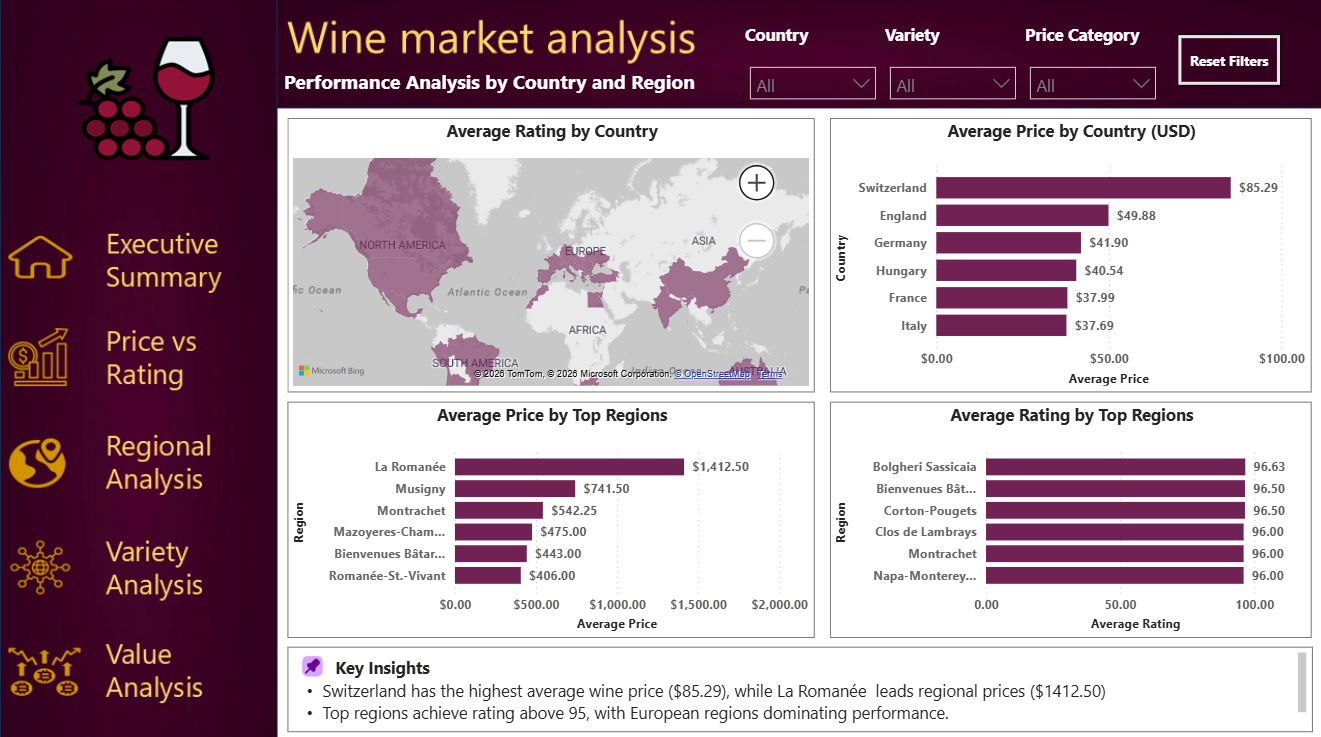

The dashboard page shown, as its layout file describes it:
{"tool":"powerbi","page":{"name":"Regional Analysis","canvas":[1280,720],"ordinal":2},"visuals":[{"type":"actionButton","title":"Reset Filters","box":[1136.7,34.8,100.2,50.1],"z":0},{"type":"slicer","title":"Country","fields":{"Values":["wine_data wine_insight.country"]},"box":[719,24.1,135.1,77.2],"z":1000},{"type":"slicer","title":"Variety","fields":{"Values":["wine_data wine_insight.variety"]},"box":[854.2,24.1,135.1,77.2],"z":2000},{"type":"slicer","title":"Price Category","fields":{"Values":["wine_data wine_insight.price_category"]},"box":[989.3,24.1,135.1,77.2],"z":3000},{"type":"filledMap","title":"Average Rating by Country ","fields":{"Category":["wine_data wine_insight.country"]},"box":[277.2,115.3,509.1,264.8],"z":4000},{"type":"clusteredBarChart","title":"Average  Price by Country (USD)","fields":{"Category":["wine_data wine_insight.country"],"Y":["Avg(wine_data wine_insight.price)"]},"box":[801.4,115.3,465.2,264.8],"z":5000},{"type":"clusteredBarChart","title":"Average Rating by Top Regions","fields":{"Category":["wine_data wine_insight.region_1"],"Y":["Avg(wine_data wine_insight.points)"]},"box":[801.4,389.7,465.2,227.8],"z":6000},{"type":"clusteredBarChart","title":"Average  Price by Top Regions","fields":{"Y":["Avg(wine_data wine_insight.price)"],"Category":["wine_data wine_insight.region_1"]},"box":[277.2,389.7,509.1,227.8],"z":7000},{"type":"textbox","box":[269,62.7,411.4,38.6],"z":8000},{"type":"textbox","box":[277.5,626.1,989.3,82],"z":9000},{"type":"image","box":[290.8,626.1,21.7,37.4],"z":10000},{"type":"actionButton","box":[0,308.9,268.5,80.7],"z":10001},{"type":"actionButton","box":[0,403.5,268.5,80.7],"z":10002},{"type":"actionButton","box":[0,512,268.5,80.7],"z":10003},{"type":"actionButton","box":[0,610.8,268.5,80.7],"z":10004},{"type":"actionButton","box":[0,214.3,268.5,80.7],"z":10005}]}

Visuals, with their boxes on the page's 1280x720 design canvas (x1, y1, x2, y2). These are canvas units, not pixel positions in the 1321x737 screenshot, which may show the page scaled, cropped or inside an application window:
"Reset Filters" actionButton: {"left": 1137, "top": 35, "right": 1237, "bottom": 85}
"Country" slicer: {"left": 719, "top": 24, "right": 854, "bottom": 101}
"Variety" slicer: {"left": 854, "top": 24, "right": 989, "bottom": 101}
"Price Category" slicer: {"left": 989, "top": 24, "right": 1124, "bottom": 101}
"Average Rating by Country " filledMap: {"left": 277, "top": 115, "right": 786, "bottom": 380}
"Average  Price by Country (USD)" clusteredBarChart: {"left": 801, "top": 115, "right": 1267, "bottom": 380}
"Average Rating by Top Regions" clusteredBarChart: {"left": 801, "top": 390, "right": 1267, "bottom": 618}
"Average  Price by Top Regions" clusteredBarChart: {"left": 277, "top": 390, "right": 786, "bottom": 618}
textbox: {"left": 269, "top": 63, "right": 680, "bottom": 101}
textbox: {"left": 278, "top": 626, "right": 1267, "bottom": 708}
image: {"left": 291, "top": 626, "right": 312, "bottom": 664}
actionButton: {"left": 0, "top": 309, "right": 268, "bottom": 390}
actionButton: {"left": 0, "top": 404, "right": 268, "bottom": 484}
actionButton: {"left": 0, "top": 512, "right": 268, "bottom": 593}
actionButton: {"left": 0, "top": 611, "right": 268, "bottom": 692}
actionButton: {"left": 0, "top": 214, "right": 268, "bottom": 295}
